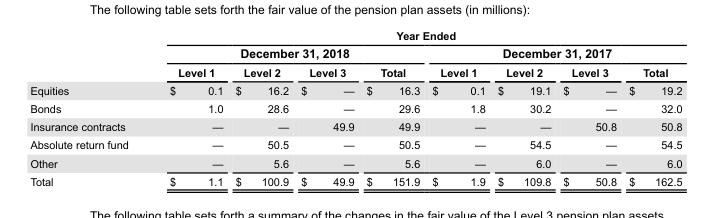table: (29, 29, 681, 187)
table column: (29, 29, 148, 187), (148, 29, 228, 187), (228, 29, 294, 187), (359, 29, 425, 187), (490, 29, 556, 187), (556, 29, 622, 187), (294, 29, 359, 187), (425, 29, 490, 187), (622, 29, 681, 187)
table column header: (29, 29, 681, 80)
table row: (29, 43, 681, 62), (29, 80, 681, 99), (29, 62, 681, 80), (29, 99, 681, 117), (29, 117, 681, 135), (29, 135, 681, 153), (29, 153, 681, 171), (29, 171, 681, 187), (29, 29, 681, 43)
table spanning cell: (148, 29, 681, 43), (148, 43, 425, 62), (425, 43, 681, 62)
